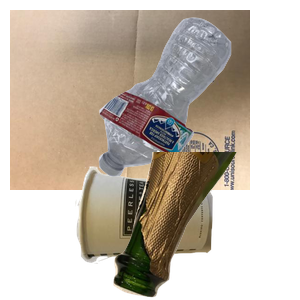cardboard: (10, 10, 250, 190)
glass: (111, 152, 300, 300)
plastic: (96, 15, 300, 184)
trash: (73, 164, 278, 300)
